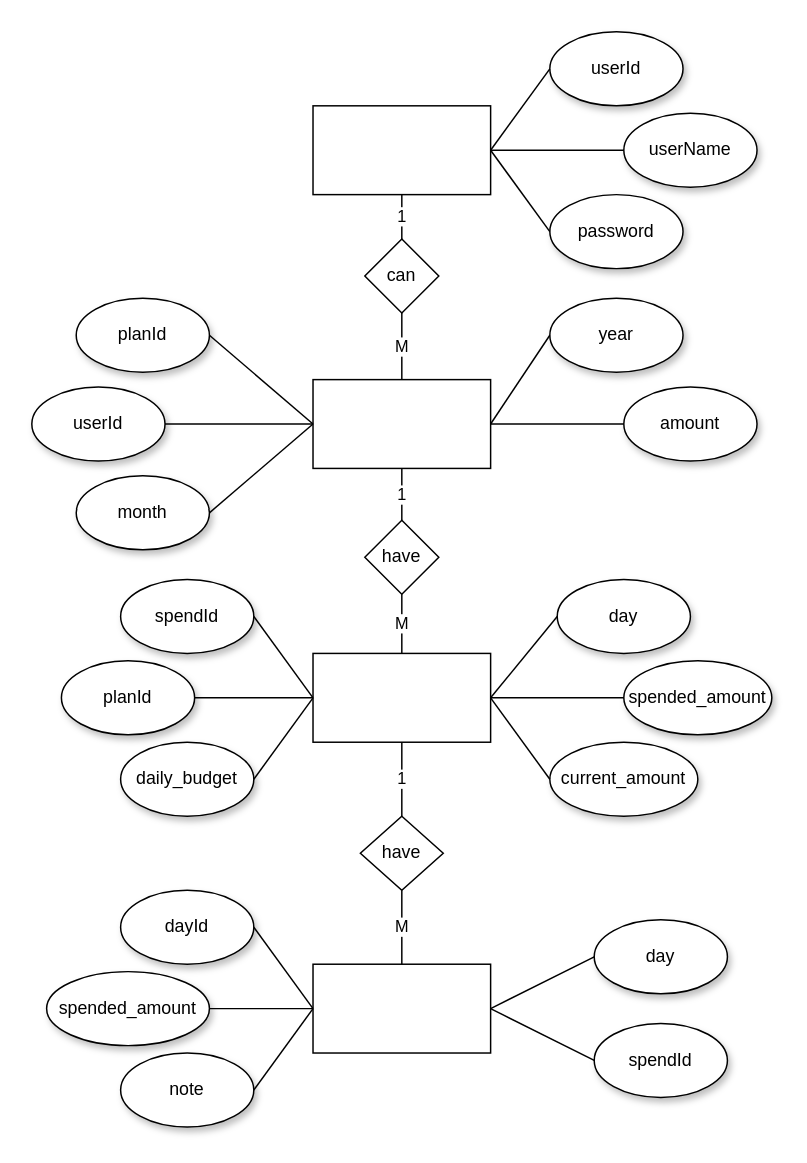
This 807x1163 diagram has some shape labels left out. The shapes that lost their labels are listed below. From the top down, each one's centre as x and y in pixels, then its label:
At (x=401, y=149): "Users".
At (x=401, y=423): "Plans".
At (x=401, y=697): "Spend_amount".
At (x=401, y=1008): "Spended_day".
